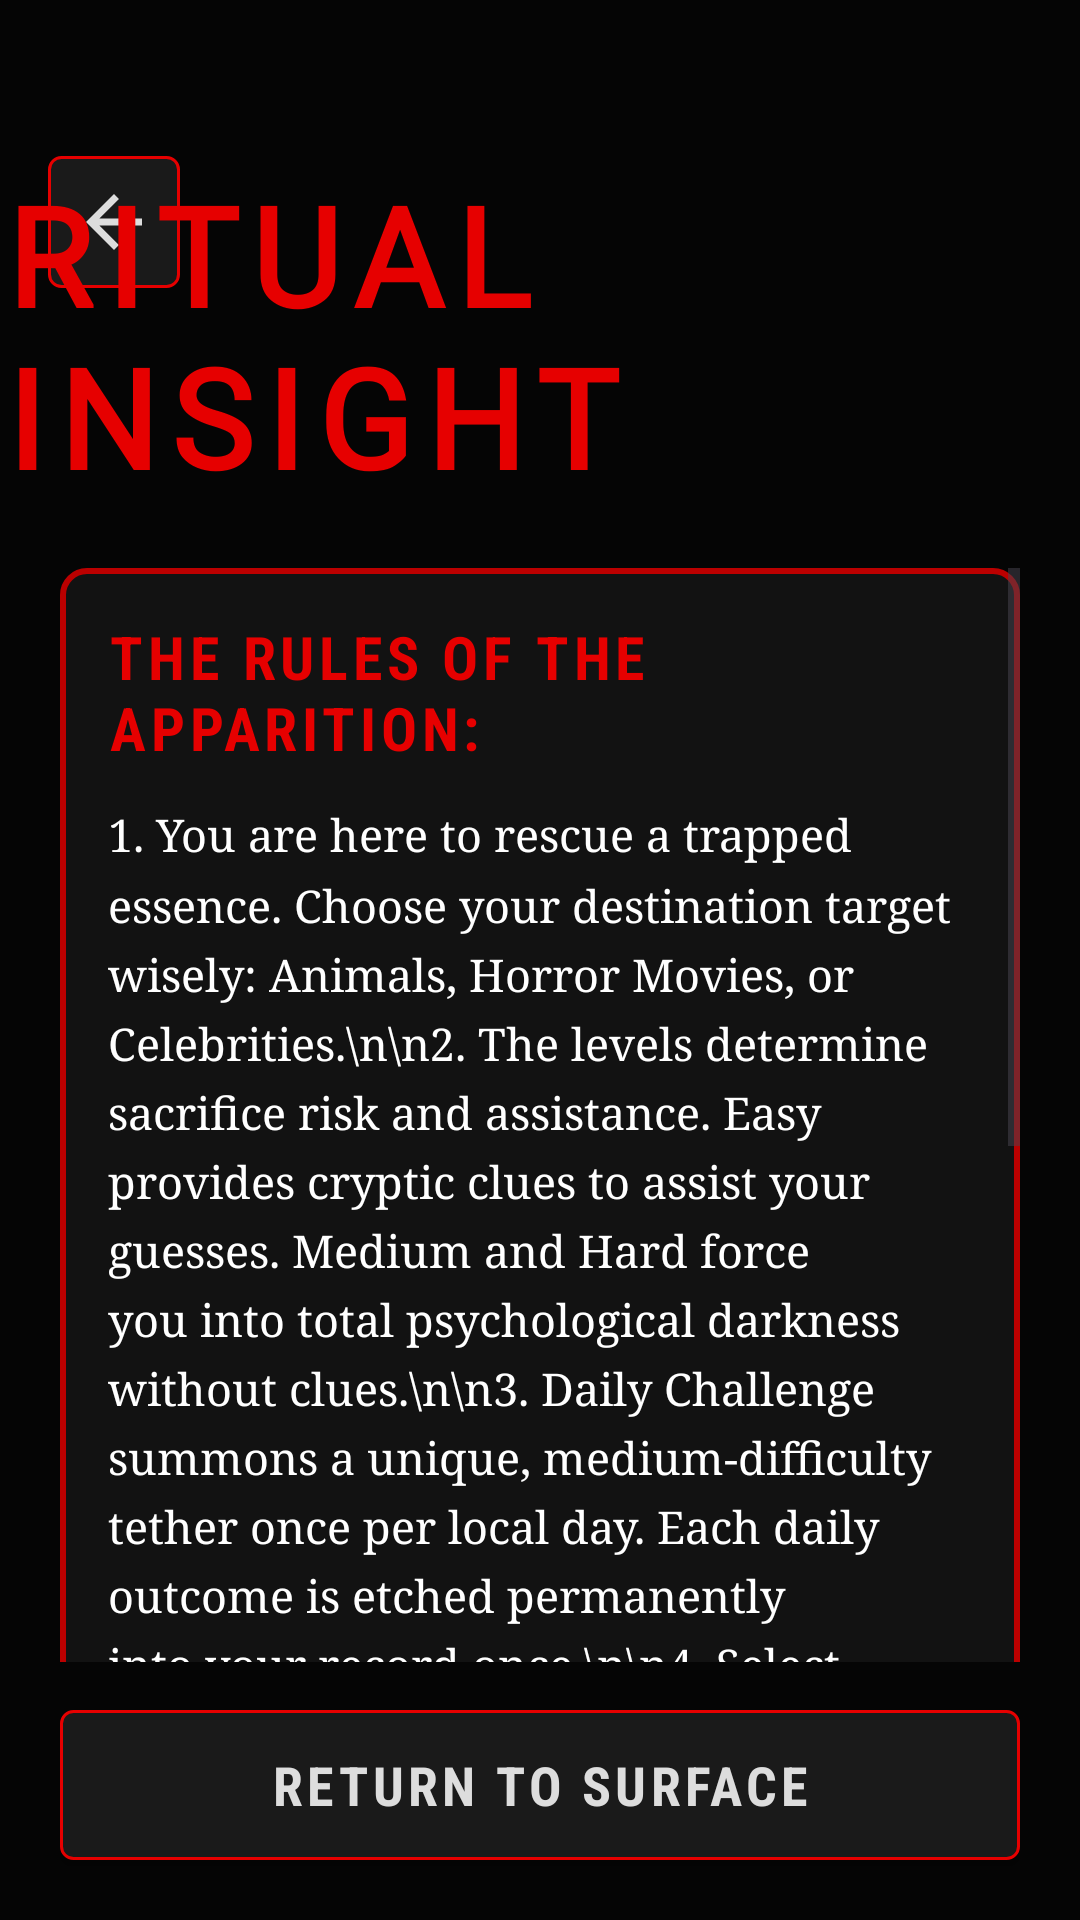

Screen size 1080 x 1920. Icon name, then its box in pixels as rect(x1, y1, x2, y2):
Return: rect(48, 156, 180, 288)
